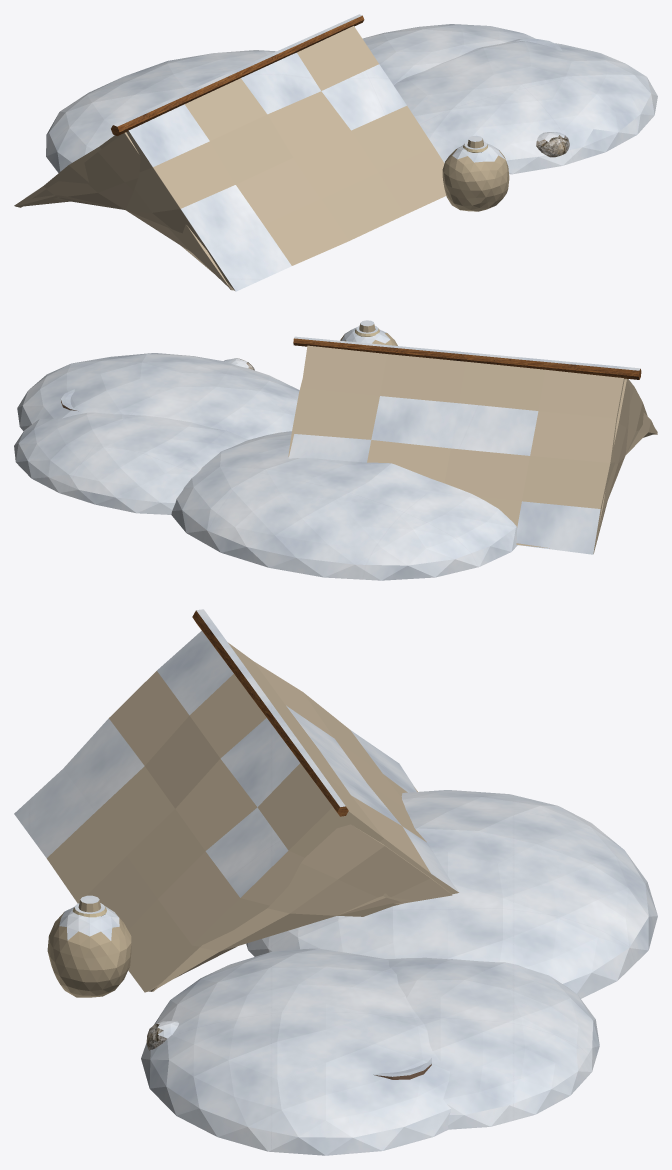
Rendered from abandoned-camp-v01.glb.
The picture shows the model from 3 angles, top to bottom: view 1: azimuth 30°, elevation 25°; view 2: azimuth 150°, elevation 25°; view 3: azimuth 270°, elevation 25°; orthographic projection. The views are drawn at different scales.
Parts seen in each view (by area): view 1: abandoned-camp; view 2: abandoned-camp; view 3: abandoned-camp.
Boxes of the visible parts, x1,y1,x2,y2 form: abandoned-camp: [14, 14, 657, 291]; abandoned-camp: [14, 320, 657, 580]; abandoned-camp: [14, 609, 657, 1155].
Bounding box in the file's own units: 4.6 × 0.9555 × 3.19.
8 materials, 3 textured.
